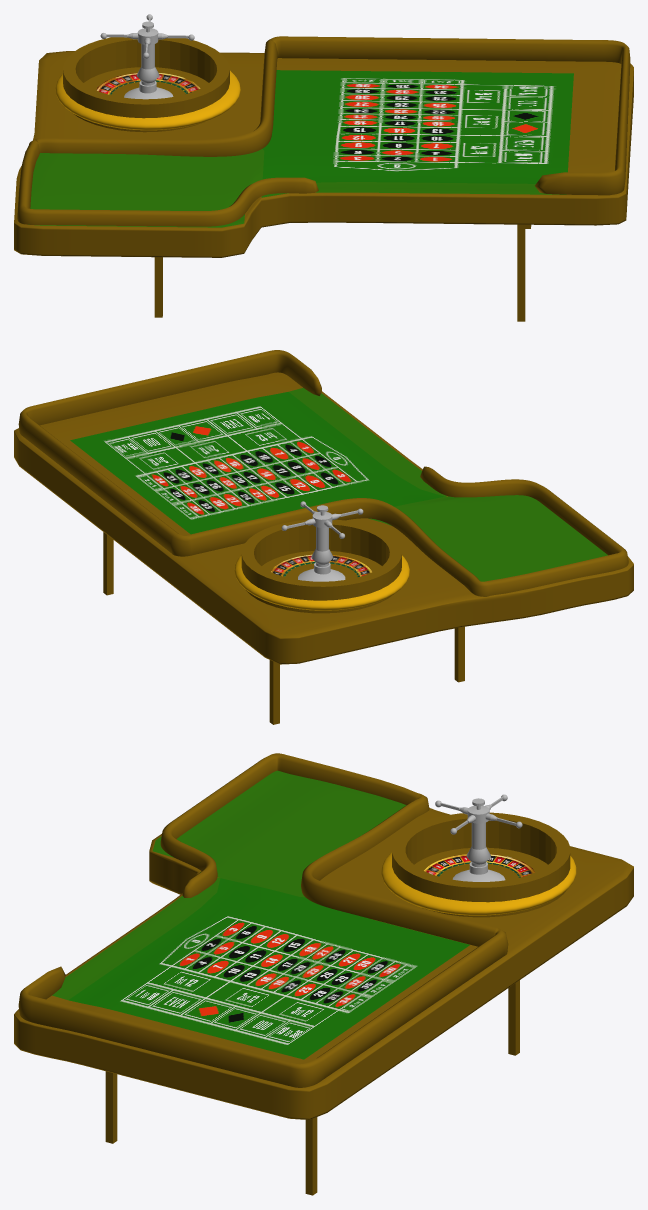
File: roulette_table.glb
The picture shows the model from 3 angles, top to bottom: view 1: azimuth 30°, elevation 25°; view 2: azimuth 150°, elevation 25°; view 3: azimuth 270°, elevation 25°; orthographic projection. The views are drawn at different scales.
Parts seen in each view (by area): view 1: polySurface2558, polySurface2550, polySurface2555, polySurface2556, polySurface2557, polySurface2554, polySurface2559, polySurface2553; view 2: polySurface2558, polySurface2550, polySurface2555, polySurface2556, polySurface2557, polySurface2559, polySurface2552, polySurface2551, polySurface2553; view 3: polySurface2558, polySurface2550, polySurface2555, polySurface2556, polySurface2557, polySurface2551, polySurface2554, polySurface2559, polySurface2552.
Boxes of the visible parts, left/top/right/bottom form: polySurface2558: left=14, top=51, right=633, bottom=257; polySurface2550: left=17, top=36, right=630, bottom=226; polySurface2555: left=63, top=37, right=229, bottom=132; polySurface2556: left=55, top=70, right=240, bottom=130; polySurface2557: left=96, top=73, right=200, bottom=94; polySurface2554: left=517, top=224, right=525, bottom=321; polySurface2559: left=136, top=44, right=159, bottom=93; polySurface2553: left=154, top=257, right=162, bottom=317; polySurface2558: left=14, top=372, right=633, bottom=664; polySurface2550: left=18, top=350, right=628, bottom=596; polySurface2555: left=241, top=519, right=401, bottom=613; polySurface2556: left=234, top=555, right=409, bottom=610; polySurface2557: left=271, top=554, right=372, bottom=576; polySurface2559: left=311, top=527, right=333, bottom=574; polySurface2552: left=269, top=660, right=279, bottom=724; polySurface2551: left=103, top=532, right=113, bottom=595; polySurface2553: left=454, top=626, right=464, bottom=682; polySurface2558: left=14, top=770, right=633, bottom=1119; polySurface2550: left=18, top=753, right=508, bottom=1087; polySurface2555: left=392, top=812, right=570, bottom=917; polySurface2556: left=381, top=852, right=576, bottom=915; polySurface2557: left=424, top=854, right=534, bottom=877; polySurface2551: left=305, top=1117, right=317, bottom=1195; polySurface2554: left=105, top=1071, right=117, bottom=1143; polySurface2559: left=466, top=822, right=490, bottom=874; polySurface2552: left=508, top=980, right=519, bottom=1055.
Size of the model in its own units: 1.29 by 0.4326 by 1.03.
12 materials, 2 textured.
